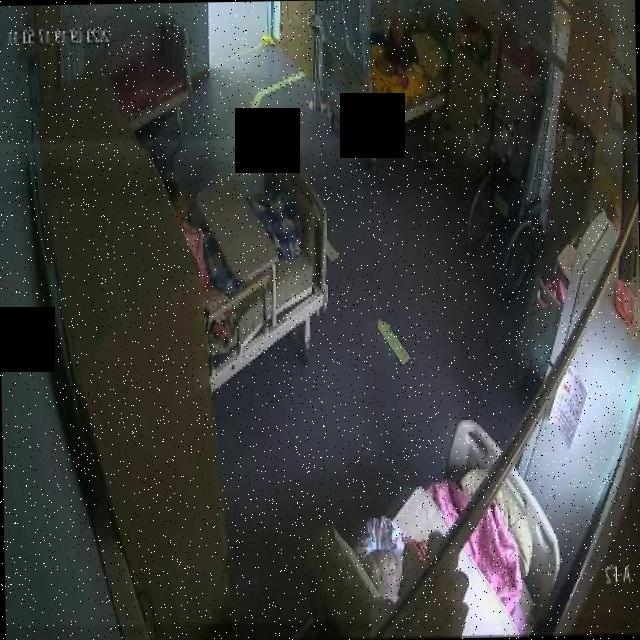bed: (324, 418, 560, 640), (193, 145, 330, 390), (321, 16, 450, 144), (110, 13, 202, 120)
